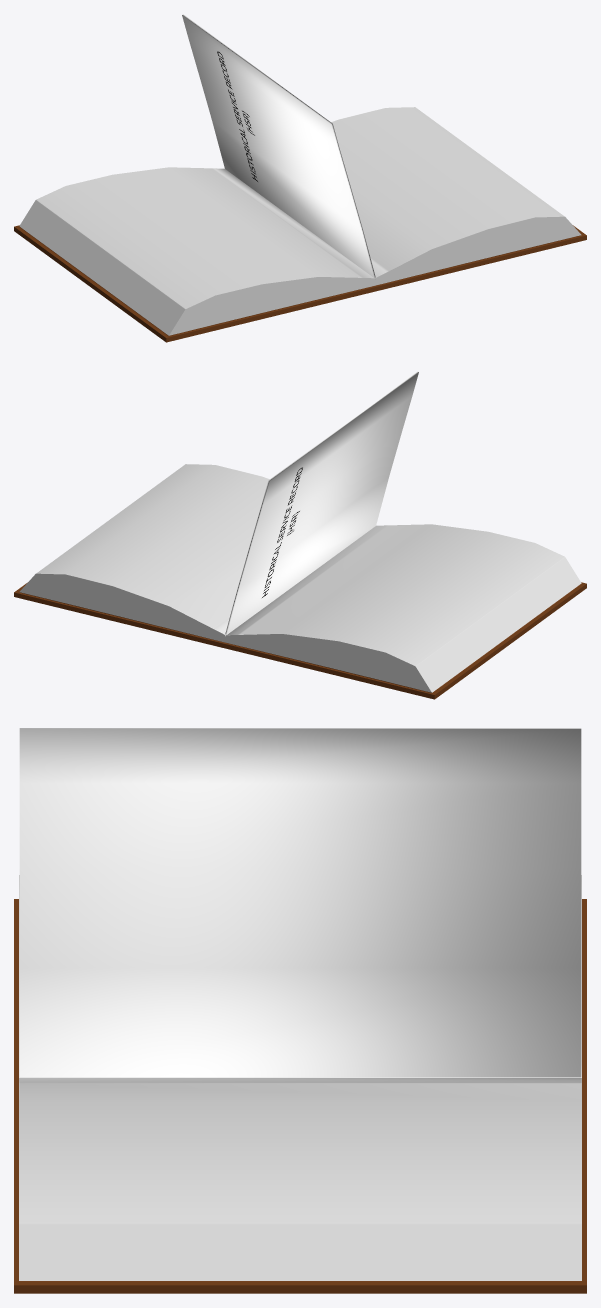
File: Buku.fbx
The picture shows the model from 3 angles, top to bottom: view 1: azimuth 30°, elevation 25°; view 2: azimuth 150°, elevation 25°; view 3: azimuth 270°, elevation 25°; orthographic projection. The views are drawn at different scales.
Visible parts, largest first — view 1: book, book.001; view 2: book, book.001; view 3: book.001, book.
Boxes of the visible parts, x1,y1,x2,y2 form: book: [14, 107, 586, 342]; book.001: [182, 14, 375, 277]; book: [14, 464, 586, 699]; book.001: [225, 371, 418, 634]; book.001: [19, 728, 581, 1077]; book: [14, 875, 586, 1293].
Size of the model in its own units: 2452 by 994 by 1537.
Materials: 3 (1 with a texture image).
